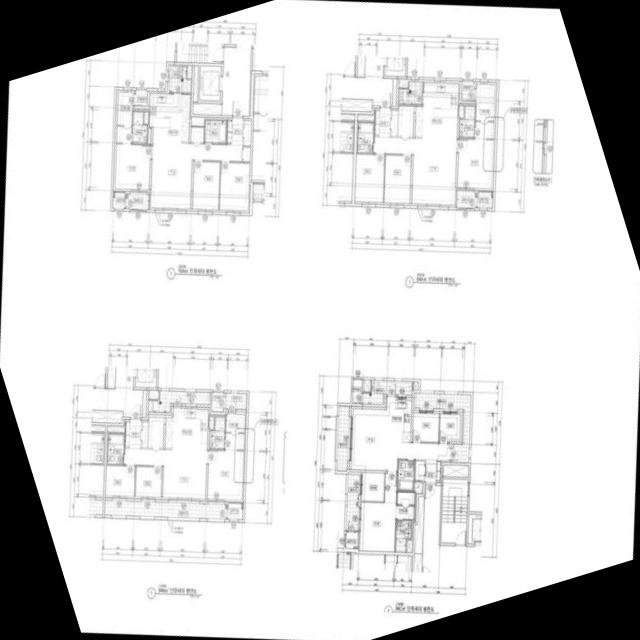background: (0, 0, 640, 640)
space_balconi: (414, 392, 470, 462), (104, 500, 226, 519), (147, 390, 209, 412), (362, 380, 411, 404), (336, 405, 349, 471), (346, 473, 358, 530), (168, 66, 190, 92), (398, 81, 422, 104), (125, 192, 148, 209), (224, 393, 246, 409), (456, 190, 476, 207)
space_bedroom: (359, 473, 396, 551), (456, 138, 492, 188), (207, 450, 242, 499), (114, 143, 150, 189), (354, 153, 384, 202), (218, 162, 248, 210), (383, 154, 411, 203), (191, 161, 219, 209), (104, 465, 134, 496), (134, 466, 161, 496), (411, 412, 438, 441), (438, 413, 459, 442)
space_dressroom: (474, 83, 494, 138), (116, 91, 132, 142), (224, 413, 244, 449), (396, 492, 414, 519)
space_elevator: (199, 65, 220, 100)
space_elevator_hall: (221, 46, 250, 115)
space_front: (124, 419, 140, 448), (226, 116, 242, 145), (374, 107, 390, 135), (424, 459, 440, 480)
space_kitchen: (414, 82, 458, 138), (148, 92, 189, 141), (164, 408, 208, 449), (384, 396, 411, 442)
space_living_room: (150, 140, 242, 208), (350, 408, 448, 470), (373, 136, 456, 204), (123, 448, 206, 498)
space_multipurpose_space: (361, 472, 383, 501)
space_other: (413, 496, 423, 553), (147, 416, 163, 448), (397, 105, 413, 136), (192, 102, 221, 114), (443, 464, 467, 476), (460, 80, 474, 100), (211, 392, 223, 411), (189, 126, 203, 142), (192, 65, 198, 101), (352, 379, 361, 403), (242, 120, 250, 145), (133, 90, 146, 105), (390, 110, 397, 136), (414, 460, 423, 480), (141, 421, 147, 447), (391, 78, 396, 106), (141, 390, 146, 417), (242, 146, 249, 161), (356, 115, 373, 121), (107, 426, 123, 432), (413, 481, 421, 492), (148, 390, 158, 398), (363, 380, 370, 391), (208, 416, 213, 428), (458, 105, 463, 117), (399, 80, 407, 87), (143, 111, 147, 123), (186, 66, 190, 78), (406, 540, 410, 552), (147, 128, 150, 143), (412, 381, 417, 389)
space_outdoor_room: (476, 191, 492, 208), (227, 503, 242, 519), (345, 531, 357, 548), (112, 192, 124, 208)
space_staircase: (440, 478, 467, 543)
space_toilet: (208, 416, 224, 449), (131, 110, 147, 143), (106, 433, 123, 464), (356, 121, 373, 152), (394, 520, 410, 552), (458, 105, 474, 137), (396, 460, 413, 490), (204, 119, 226, 142)
